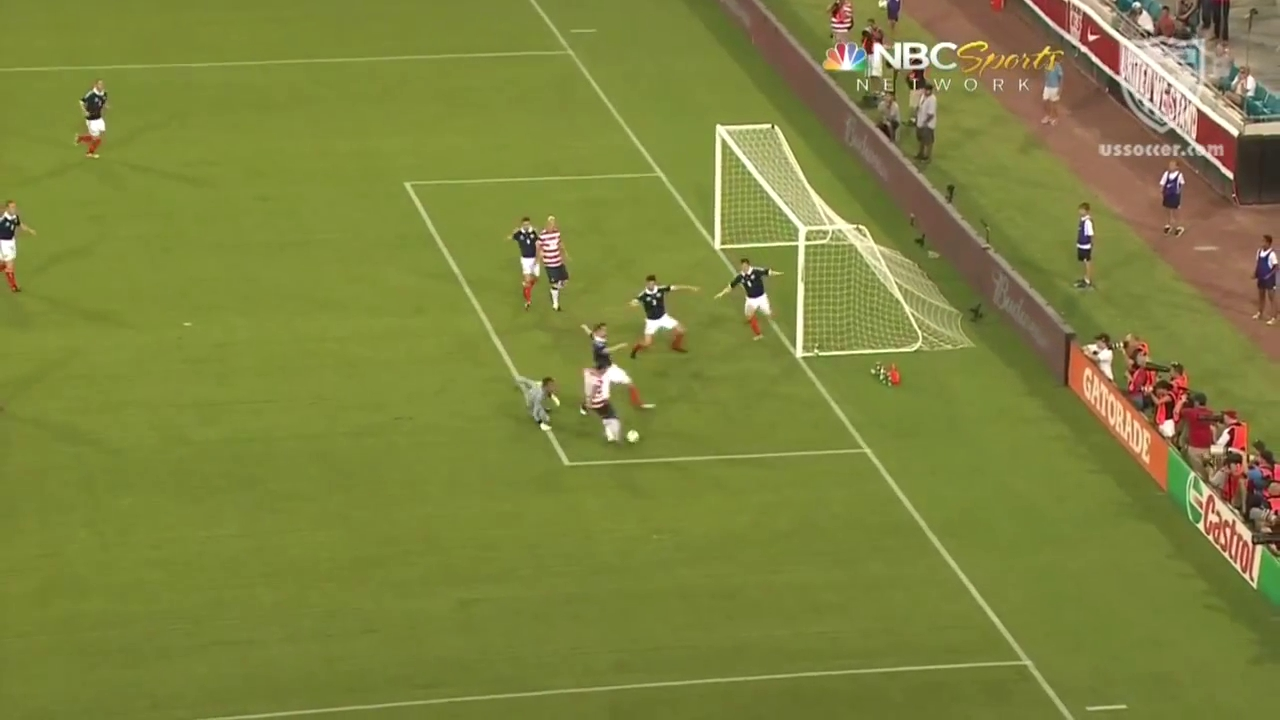person: (624, 275, 703, 359), (710, 257, 786, 342), (581, 323, 654, 410), (504, 217, 543, 310), (1, 200, 38, 294), (582, 364, 624, 443), (537, 217, 571, 312), (72, 79, 111, 159), (515, 375, 561, 429)
